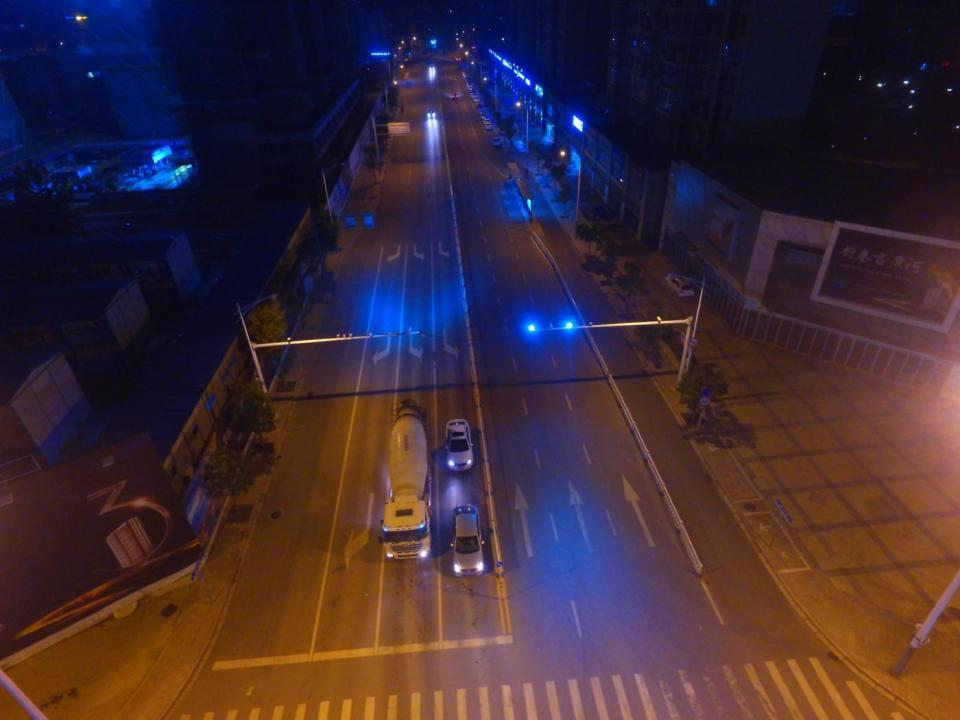car: (451, 502, 490, 577), (444, 414, 474, 473), (664, 270, 697, 300), (491, 136, 501, 147), (426, 109, 435, 119), (472, 101, 484, 108), (484, 122, 493, 131), (482, 116, 490, 124), (467, 86, 476, 93), (452, 92, 460, 99), (478, 109, 486, 116), (469, 92, 476, 99), (428, 64, 435, 70), (472, 96, 478, 101)
